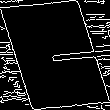L_W: (5, 35, 105, 75)
